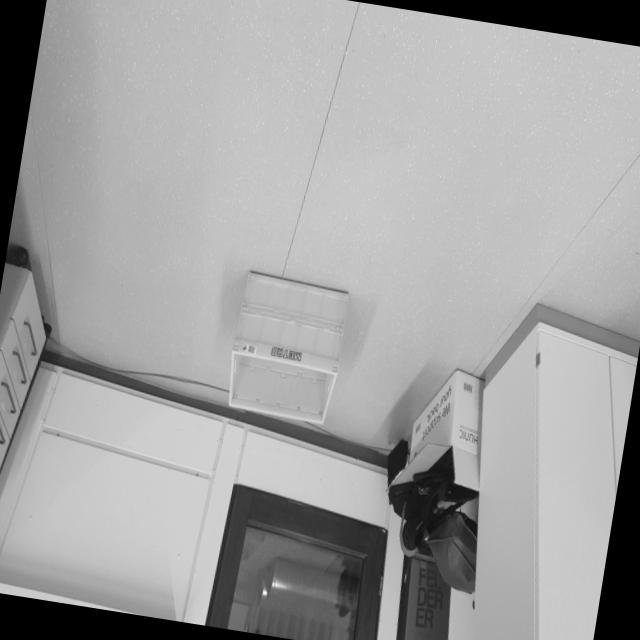box: (217, 257, 356, 429)
